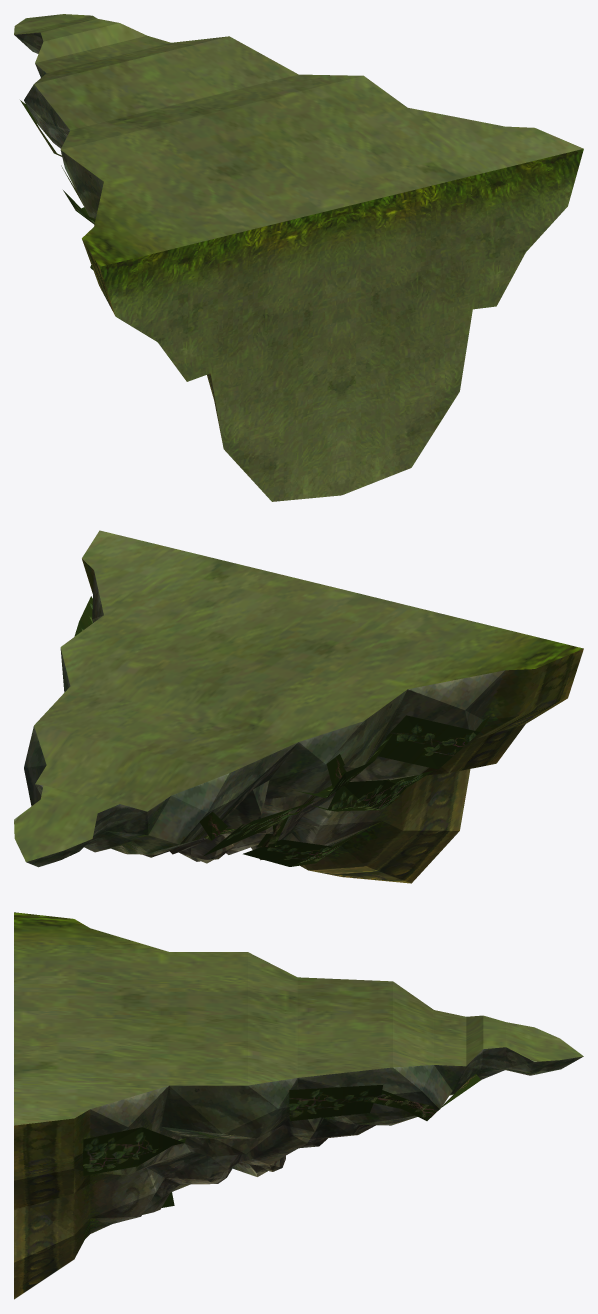
File: huodong_fuben_362_statuary02.obj
3 renders of one model, top to bottom at view 1: azimuth 30°, elevation 25°; view 2: azimuth 150°, elevation 25°; view 3: azimuth 270°, elevation 25°, orthographic. The views are drawn at different scales.
Parts seen in each view (by area): view 1: huodong_fuben_362_statuary02; view 2: huodong_fuben_362_statuary02; view 3: huodong_fuben_362_statuary02.
Boxes of the visible parts, x1,y1,x2,y2 form: huodong_fuben_362_statuary02: (14,14,583,501); huodong_fuben_362_statuary02: (14,530,583,883); huodong_fuben_362_statuary02: (14,912,583,1299).
Size of the model in its own units: 540 by 307 by 610.
Materials: 2 (2 with a texture image).
